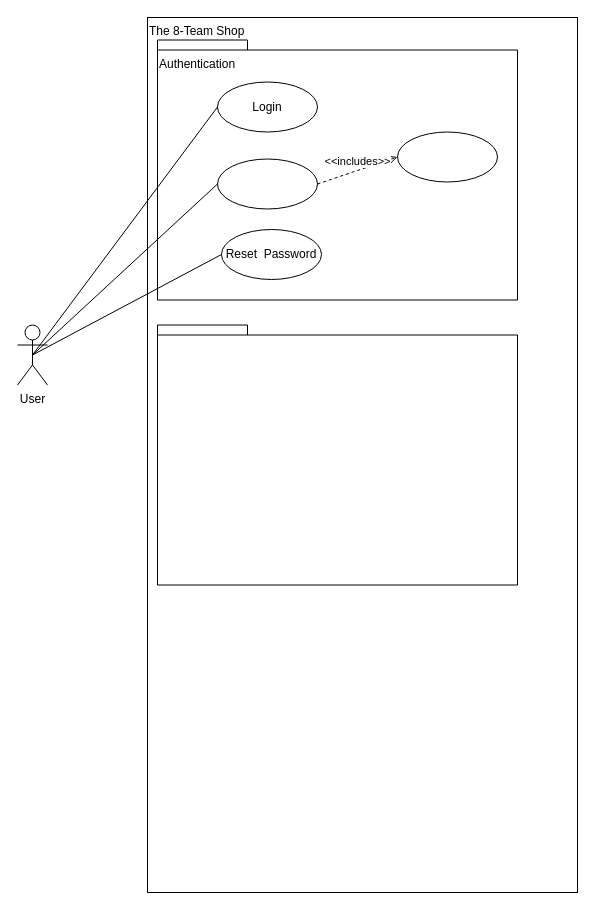
Image size: 595x910. Some labels were removed from this diagram. Here are the shapes that lost their labels. From the top down, the centre of each, then its label:
At [447,156]: "Set Password".
At [267,183]: "Register".
At [337,454]: "next Feature".
